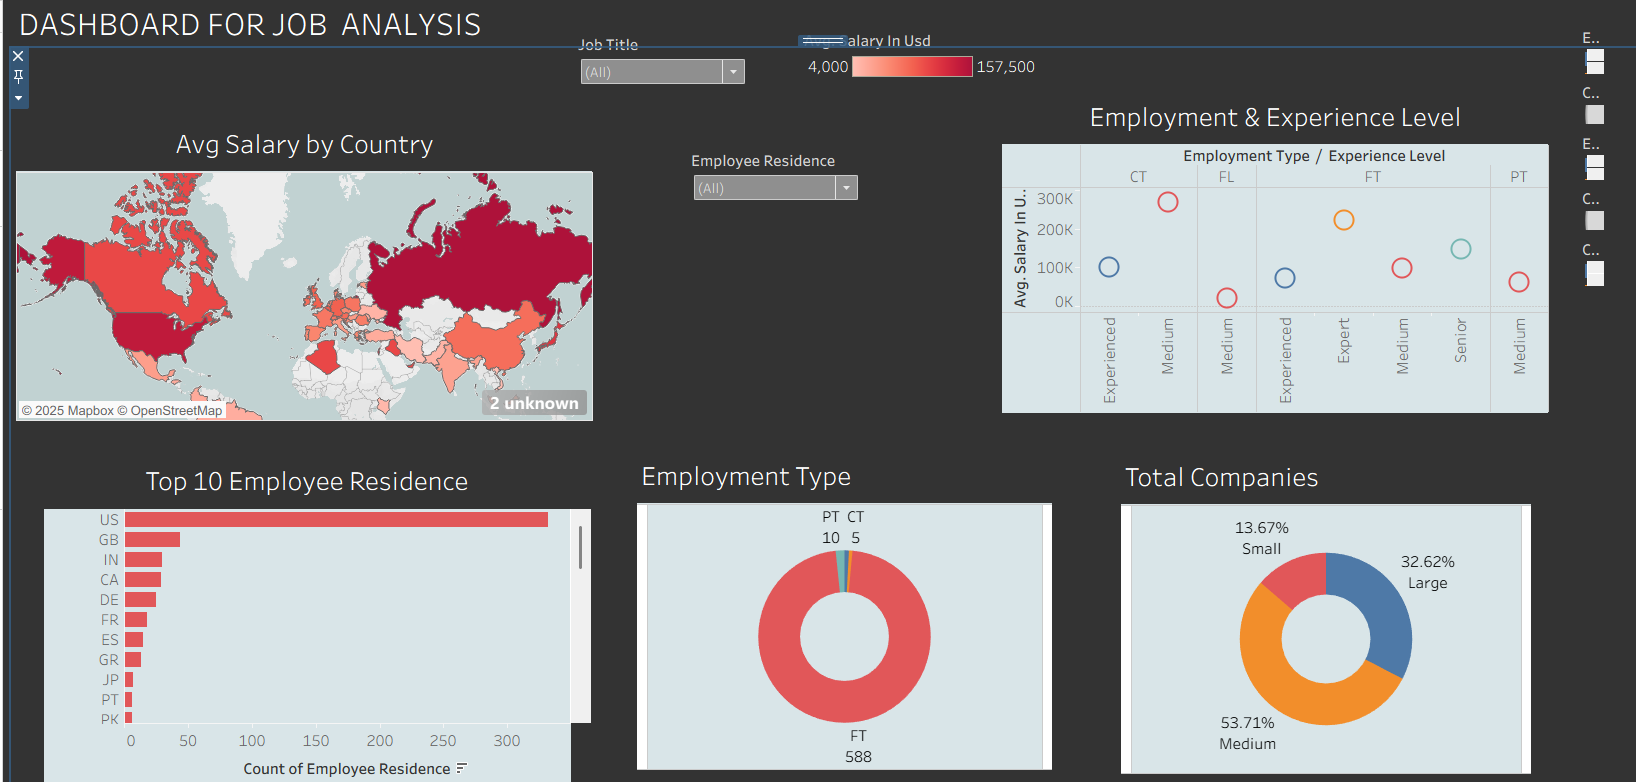

Layout of this report page (visuals, bound fields, positions):
{"tool":"tableau","page":{"name":"Dashboard 1","canvas":[1000,1000],"units":"permille","ordinal":0},"visuals":[{"type":"title","box":[4.9,9.3,990.2,58.1]},{"type":"legend","title":"Employment & Experience Level","param":"[federated.0h9vc0w1uhzit613zx8bx0w54e8u].[none:experience_level:nk]","box":[959.9,38.4,19.8,64]},{"type":"legend","title":"Avg Salary by Country","param":"[federated.0h9vc0w1uhzit613zx8bx0w54e8u].[avg:salary_in_usd:qk]","box":[488.1,46.5,143.8,102.3]},{"type":"filter","title":"Employment & Experience Level","param":"[federated.0h9vc0w1uhzit613zx8bx0w54e8u].[none:job_title:nk]","box":[350.4,51.2,103.6,81.4]},{"type":"legend","title":"Employment Type","param":"[federated.0h9vc0w1uhzit613zx8bx0w54e8u].[cnt:experience_level:qk]","box":[959.9,102.3,19.8,59.3]},{"type":"worksheet","title":"Employment & Experience Level","mark":"Shape","rows":["salary_in_usd"],"cols":["employment_type","experience_level"],"box":[608.8,122.1,333.3,369.8]},{"type":"worksheet","title":"Avg Salary by Country","mark":"Multipolygon","box":[7.9,153.5,351.6,347.7]},{"type":"legend","title":"Employment Type","param":"[federated.0h9vc0w1uhzit613zx8bx0w54e8u].[none:employment_type:nk]","box":[959.9,161.6,19.8,64]},{"type":"filter","title":"Top 10","param":"[federated.0h9vc0w1uhzit613zx8bx0w54e8u].[none:employee_residence:nk]","box":[419.3,186.1,103.6,177.9]},{"type":"legend","title":"Company Size","param":"[federated.0h9vc0w1uhzit613zx8bx0w54e8u].[cnt:company_location:qk]","box":[959.9,225.6,19.8,59.3]},{"type":"legend","title":"Company Size","param":"[federated.0h9vc0w1uhzit613zx8bx0w54e8u].[none:company_size:nk]","box":[959.9,284.9,19.8,64]},{"type":"worksheet","title":"Employment Type","mark":"Pie","rows":["Calculation_667658700716851201","Calculation_667658700716851201"],"box":[386.4,539.5,253.5,367.4]},{"type":"worksheet","title":"Company Size","mark":"Pie","rows":["Calculation_667658700716851201","Calculation_667658700716851201"],"box":[681.3,540.7,250.5,370.9]},{"type":"worksheet","title":"Top 10","mark":"Automatic","rows":["employee_residence"],"cols":["employee_residence"],"box":[25,545.4,333.3,380.2]}]}

Visuals, with their boxes on the dashboard's canvas, which has no fixed pixel size, in thousandths of its width and height (x1, y1, x2, y2). These are canvas units, not pixel positions in the 1636x782 screenshot, which may show the page scaled, cropped or inside an application window:
title: (x1=5, y1=9, x2=995, y2=67)
"Employment & Experience Level" legend: (x1=960, y1=38, x2=980, y2=102)
"Avg Salary by Country" legend: (x1=488, y1=46, x2=632, y2=149)
"Employment & Experience Level" filter: (x1=350, y1=51, x2=454, y2=133)
"Employment Type" legend: (x1=960, y1=102, x2=980, y2=162)
"Employment & Experience Level" worksheet (Shape marks): (x1=609, y1=122, x2=942, y2=492)
"Avg Salary by Country" worksheet (Multipolygon marks): (x1=8, y1=154, x2=360, y2=501)
"Employment Type" legend: (x1=960, y1=162, x2=980, y2=226)
"Top 10" filter: (x1=419, y1=186, x2=523, y2=364)
"Company Size" legend: (x1=960, y1=226, x2=980, y2=285)
"Company Size" legend: (x1=960, y1=285, x2=980, y2=349)
"Employment Type" worksheet (Pie marks): (x1=386, y1=540, x2=640, y2=907)
"Company Size" worksheet (Pie marks): (x1=681, y1=541, x2=932, y2=912)
"Top 10" worksheet: (x1=25, y1=545, x2=358, y2=926)
